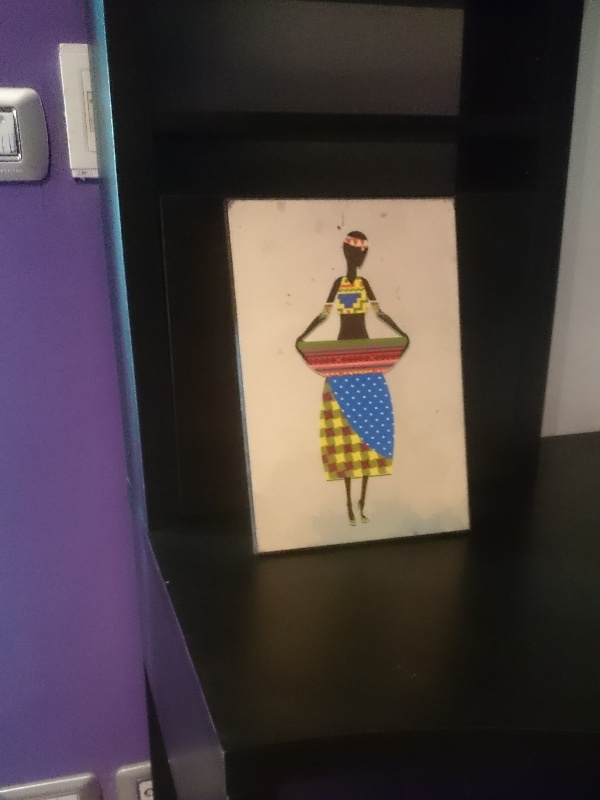my image: (231, 201, 467, 554)
